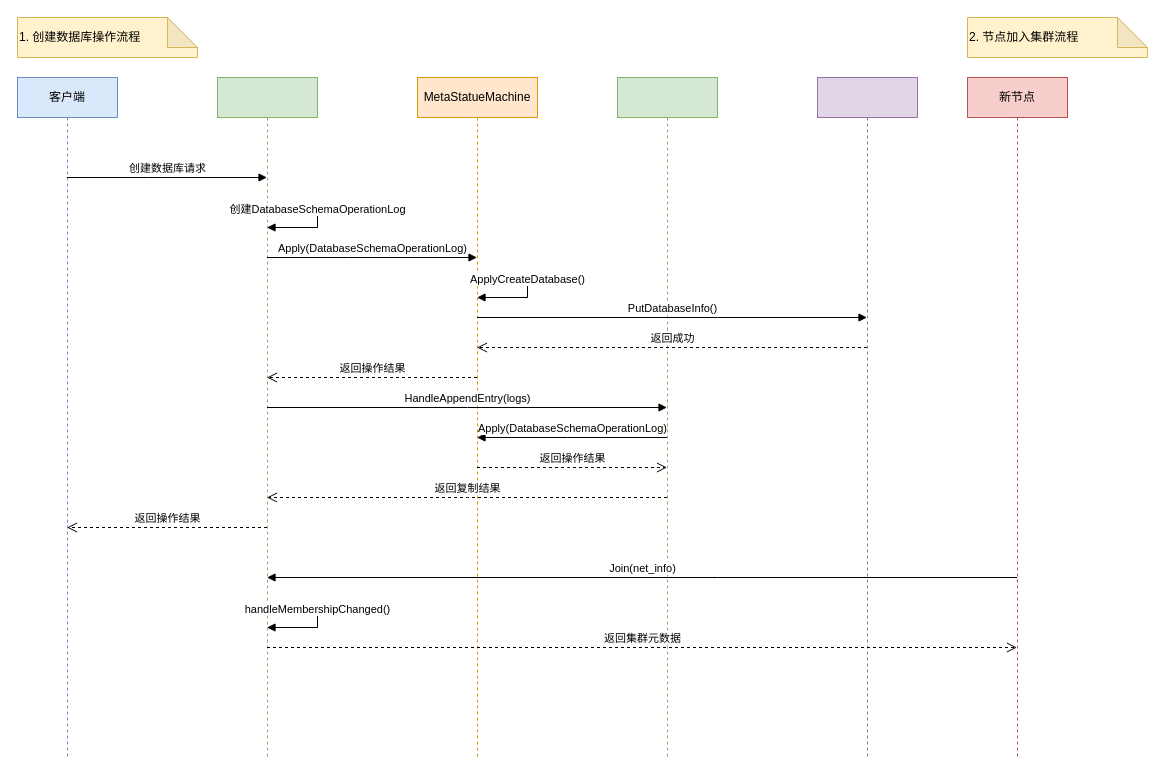
Image size: 1165x775. Some labels were removed from this diagram. Each missing label, with the box of its shape:
CLNode (Follower): (616, 76, 718, 758)
CLNode (Leader): (216, 76, 318, 758)
MetaData: (816, 76, 918, 758)
